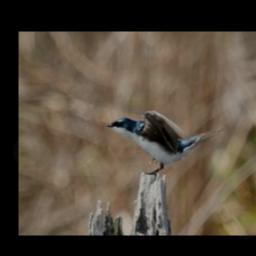Swallow: (106, 108, 223, 175)
